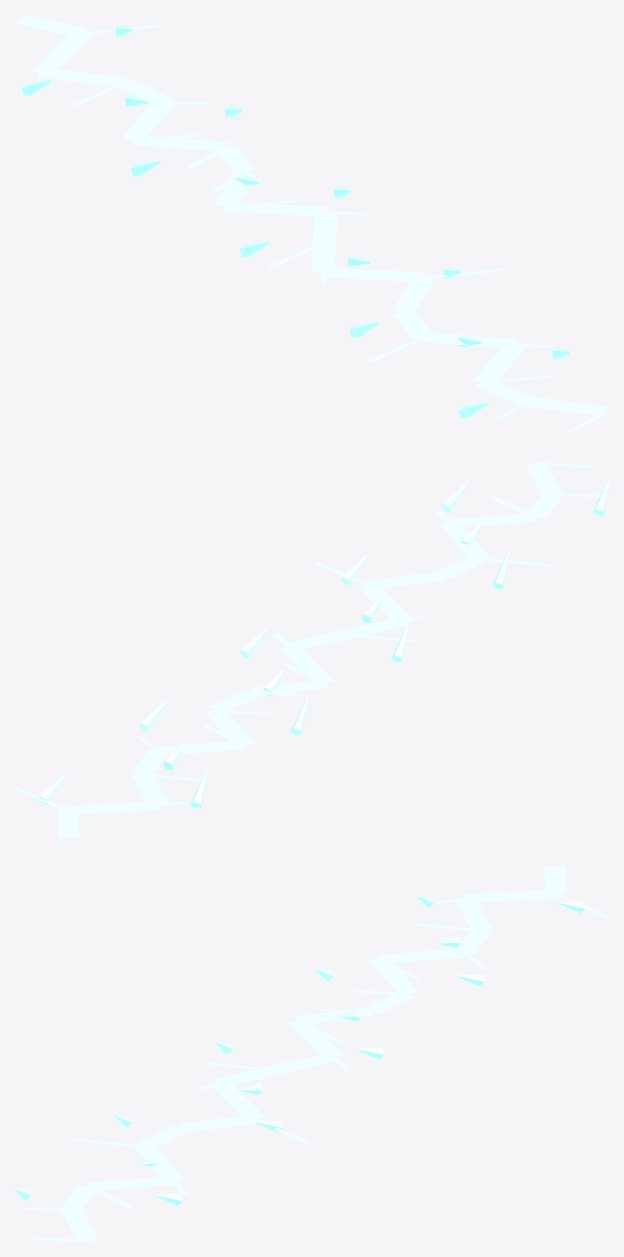
File: FX_BOSS_Fissure.glb
The picture shows the model from 3 angles, top to bottom: view 1: azimuth 30°, elevation 25°; view 2: azimuth 150°, elevation 25°; view 3: azimuth 330°, elevation 25°; orthographic projection. The views are drawn at different scales.
Visible parts, largest first — view 1: FX_BOSS_Fissure_Release, FX_BOSS_Fissure_Debris; view 2: FX_BOSS_Fissure_Release, FX_BOSS_Fissure_Debris; view 3: FX_BOSS_Fissure_Release, FX_BOSS_Fissure_Debris.
Part boxes in pixels (x1=…): FX_BOSS_Fissure_Release: x1=14, y1=14, x2=609, y2=433; FX_BOSS_Fissure_Debris: x1=21, y1=25, x2=570, y2=417; FX_BOSS_Fissure_Release: x1=14, y1=462, x2=599, y2=837; FX_BOSS_Fissure_Debris: x1=39, y1=478, x2=609, y2=808; FX_BOSS_Fissure_Release: x1=24, y1=866, x2=609, y2=1242; FX_BOSS_Fissure_Debris: x1=14, y1=896, x2=584, y2=1205.
Size of what is drawn, in the model's own units: 0.0043 by 0.000579 by 0.0212.
